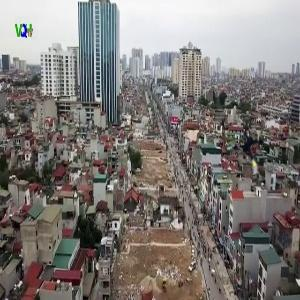drone: (225, 129, 274, 178)
